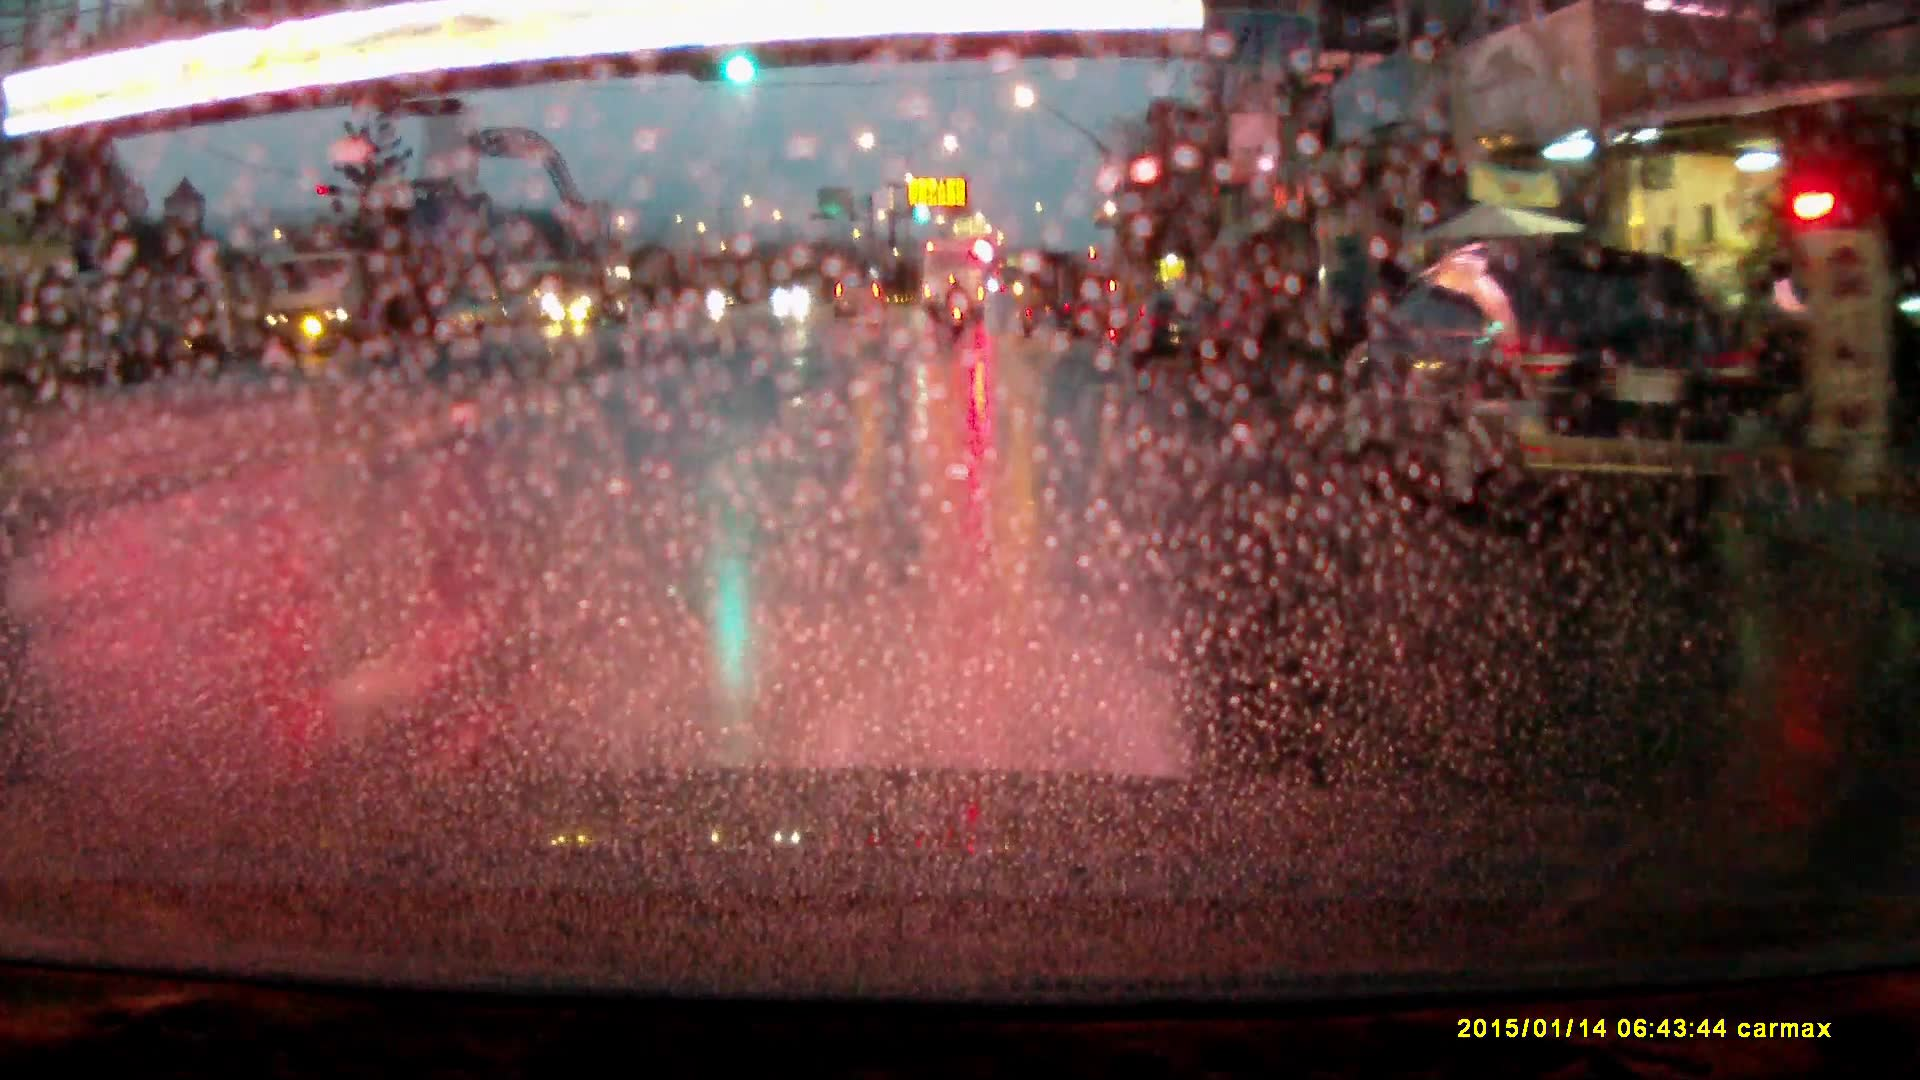rider: (946, 289, 967, 341)
vehicle: (1337, 244, 1776, 529), (260, 254, 435, 356), (1129, 291, 1234, 375), (918, 235, 988, 331), (545, 262, 640, 324), (1066, 295, 1133, 344), (830, 272, 887, 319)
